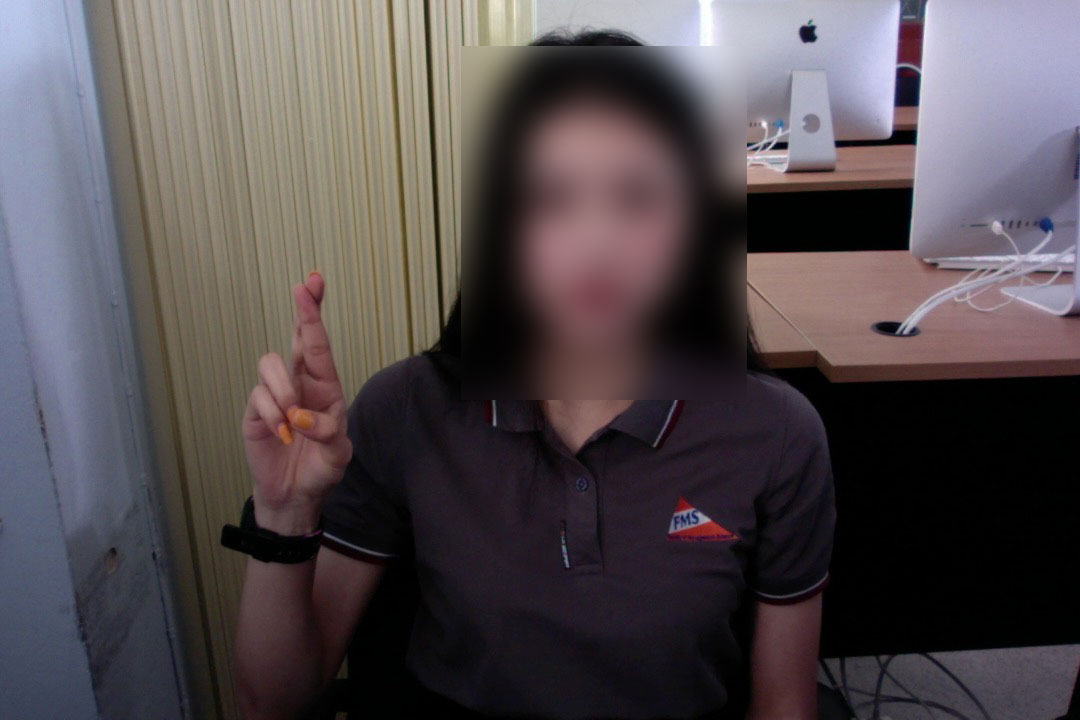rao: (226, 271, 366, 510)
